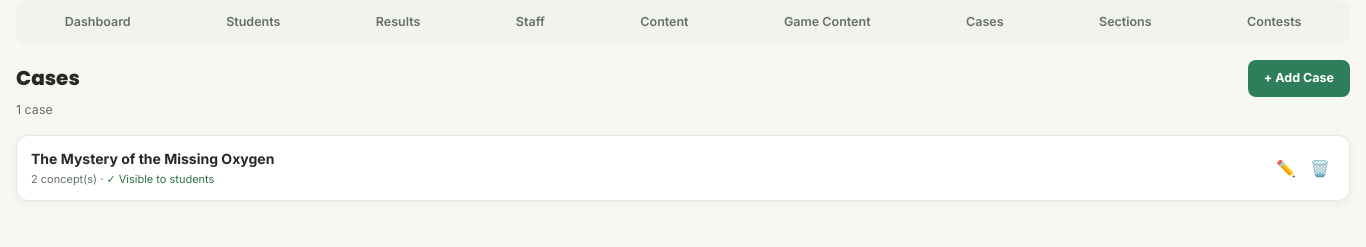
Test: AdminCases › deleting a case: shows a banner when the delete request fails
Expected: the text "The Mystery of the Missing Oxygen" is shown, left=31, top=150, right=274, bottom=167
Click the button named "Delete" at point(1320, 168), box left=1305, top=153, right=1335, bottom=183
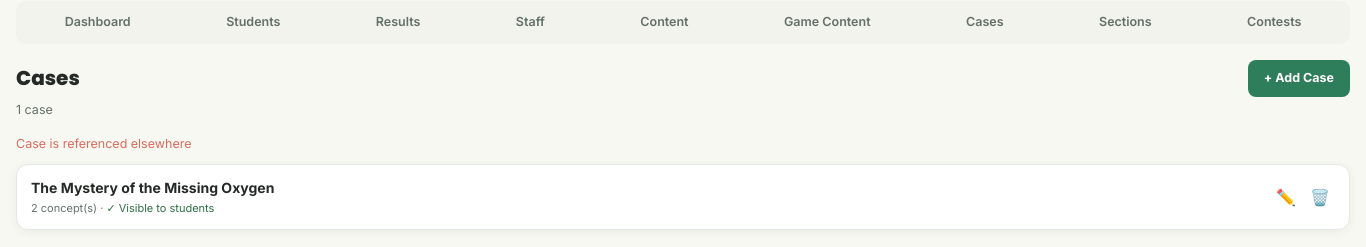
Now the text "Case is referenced elsewhere" is shown, box left=16, top=136, right=192, bottom=151
